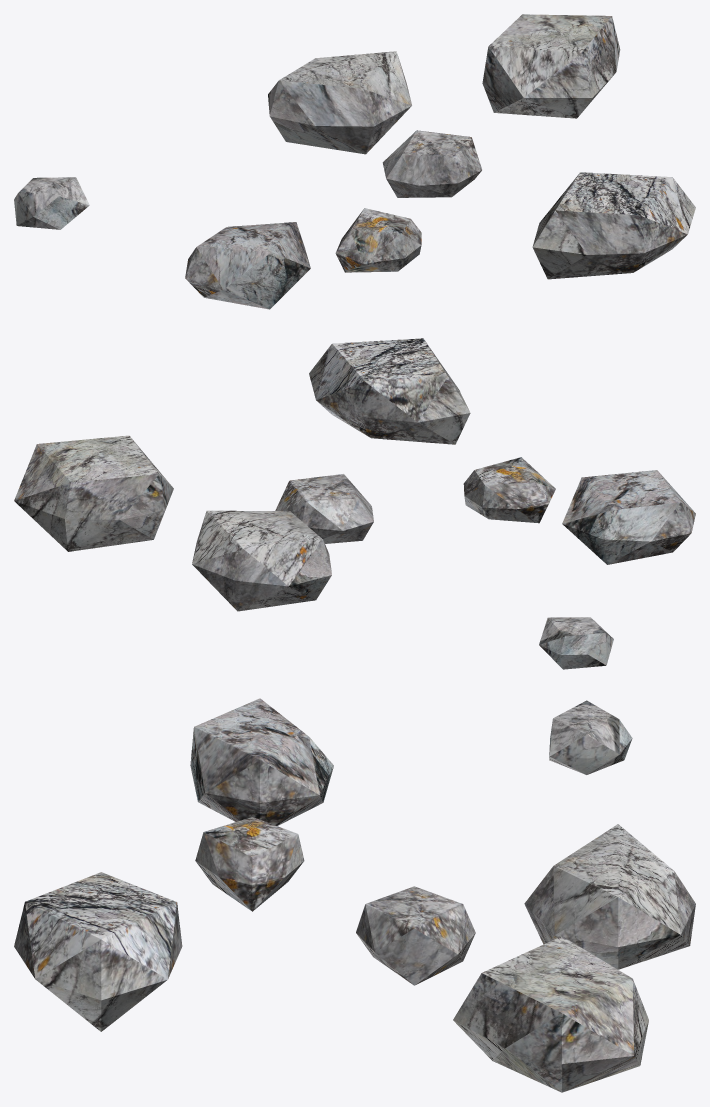
The model's file is pebble_bed.gltf.
3 renders of one model, top to bottom at view 1: azimuth 30°, elevation 25°; view 2: azimuth 150°, elevation 25°; view 3: azimuth 270°, elevation 25°, orthographic. The views are drawn at different scales.
Visible parts, largest first — view 1: pebble_bed; view 2: pebble_bed; view 3: pebble_bed.
Boxes of the visible parts, left/top/right/bottom form: pebble_bed: left=14, top=14, right=695, bottom=309; pebble_bed: left=14, top=338, right=695, bottom=669; pebble_bed: left=14, top=698, right=695, bottom=1092.
Bounding box in the file's own units: 1.13 × 0.1456 × 0.8719.
1 material, 1 textured.
